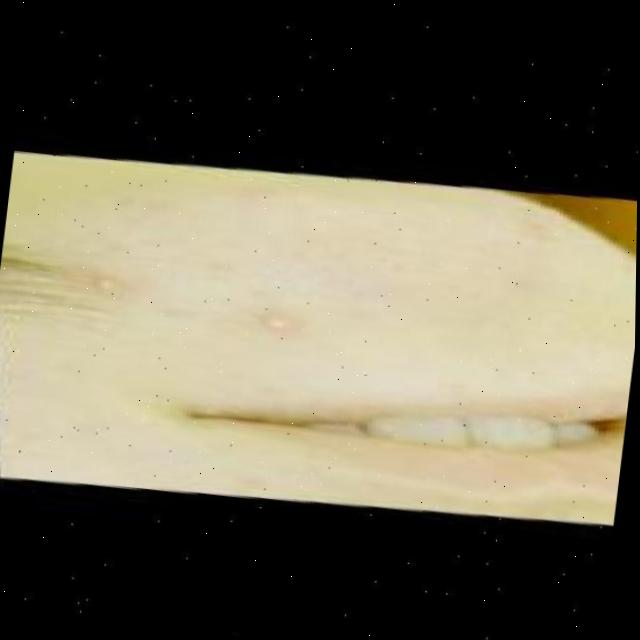Acne: (227, 287, 295, 347)
